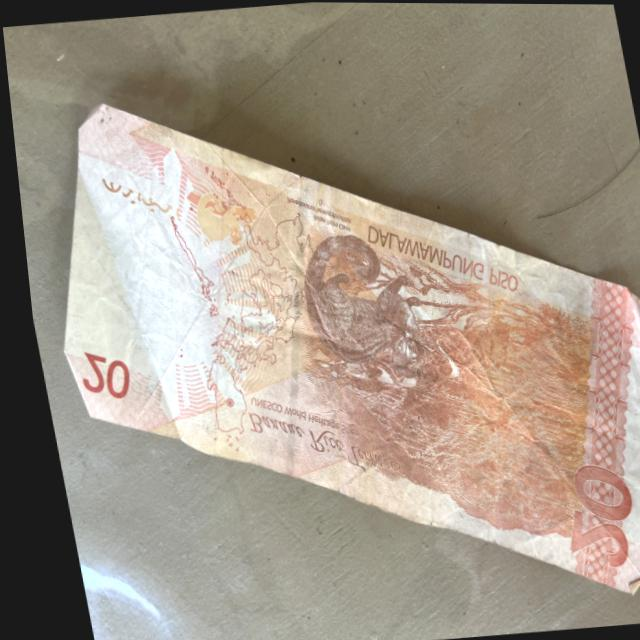20_civet: (279, 227, 423, 388)
20_civet_watermark: (179, 186, 248, 255)
